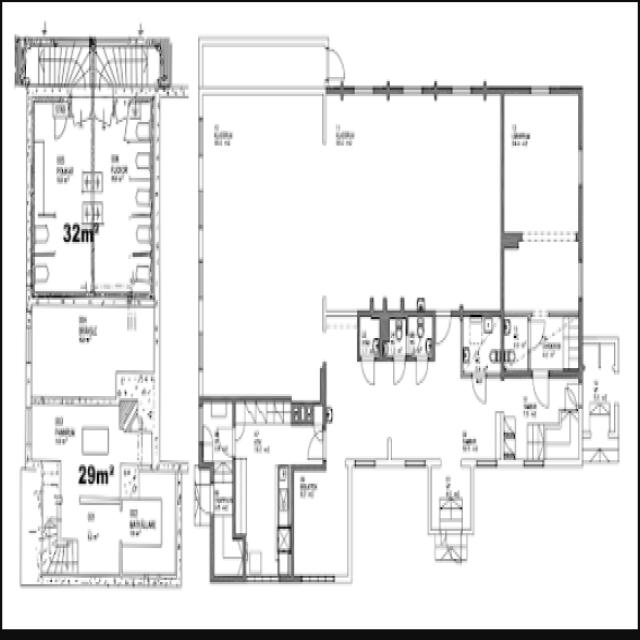door: (200, 399, 235, 463), (392, 353, 428, 386), (324, 42, 348, 86), (530, 367, 552, 410), (195, 480, 214, 520), (306, 427, 327, 463), (433, 308, 452, 347), (527, 315, 546, 352), (470, 370, 488, 406), (360, 353, 377, 388), (391, 354, 407, 386), (414, 354, 429, 386), (566, 380, 582, 409), (52, 113, 68, 141), (233, 420, 247, 446)
window: (447, 80, 488, 100), (300, 569, 338, 589), (195, 110, 207, 166), (349, 80, 384, 99), (100, 286, 129, 308), (23, 316, 34, 368), (371, 457, 409, 472), (23, 402, 34, 448), (25, 145, 35, 195), (576, 256, 586, 302), (576, 144, 586, 190), (320, 325, 330, 370), (528, 81, 553, 98), (152, 299, 161, 341), (197, 403, 204, 440)
zone: (200, 90, 325, 403), (43, 400, 132, 570), (502, 88, 581, 236), (31, 107, 94, 286), (235, 401, 292, 581), (29, 402, 147, 487), (92, 107, 153, 270), (291, 464, 350, 582), (502, 236, 581, 314), (120, 478, 180, 580), (62, 492, 122, 577), (581, 341, 619, 457), (429, 464, 474, 534), (530, 313, 580, 373), (212, 478, 240, 579), (462, 312, 502, 374), (201, 398, 234, 464), (503, 313, 529, 374), (23, 467, 43, 529), (406, 313, 434, 357), (358, 313, 384, 356)
